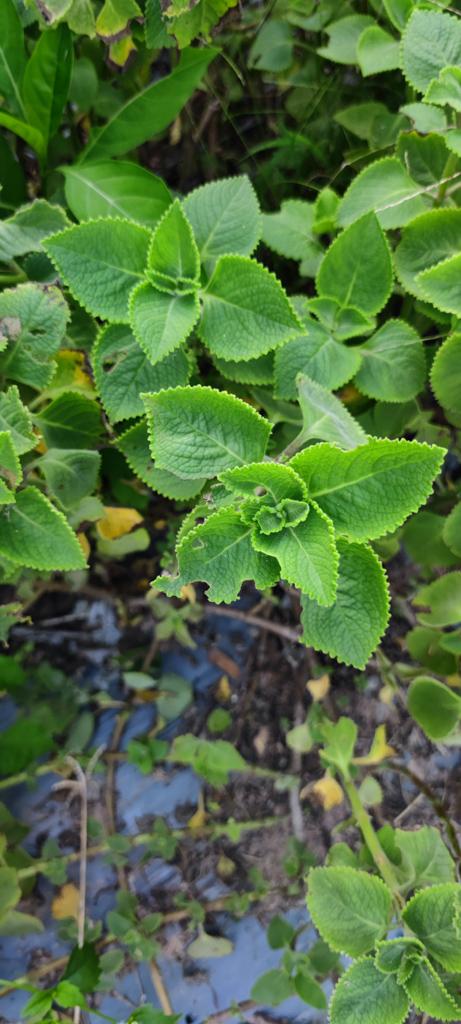Pepper yellow leaf: (86, 500, 147, 548), (53, 343, 93, 399), (294, 767, 338, 810)
